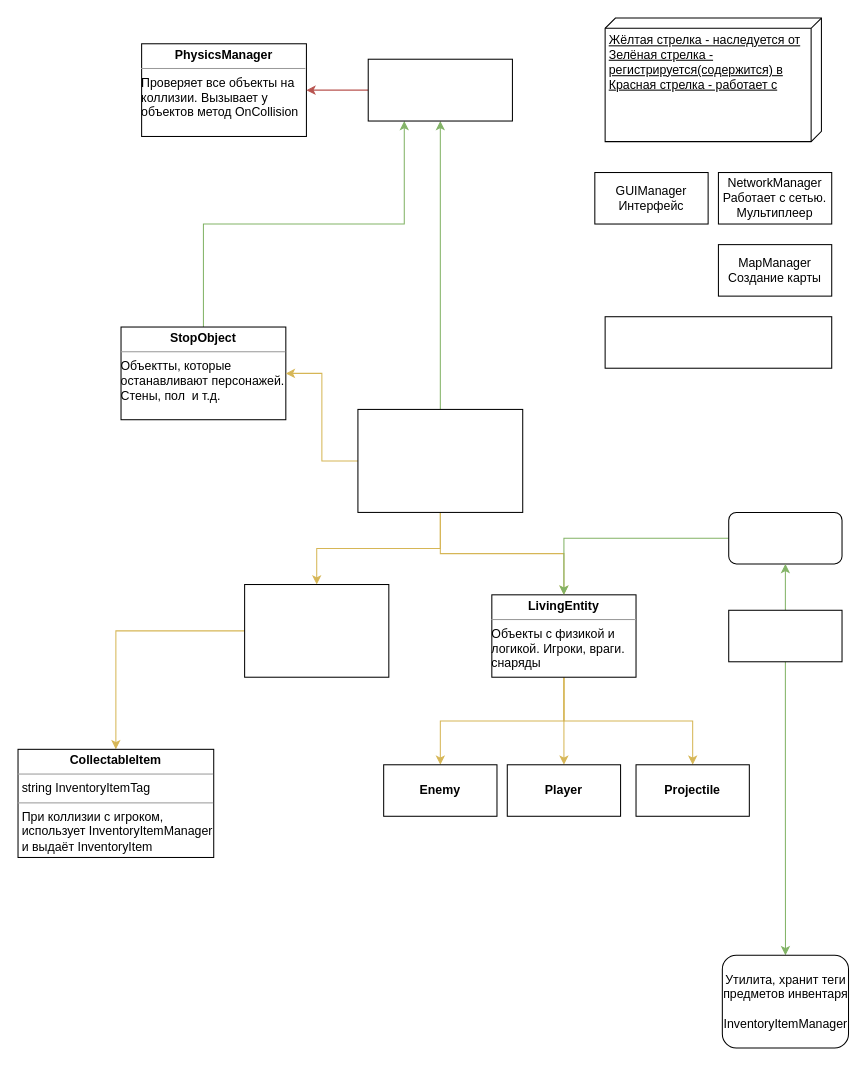
Image size: 867x1066. Some labels were removed from this diagram. Each missing label, with the centre of its shape:
Entity Объект, у которого есть физика, но нет логики. Выпадающие предметы, шипы: the point at 316,630
GameManager Регистрирует все объекты в менеджерах: the point at 439,89
IGameObject Любой игровой объект Методы: void OnCollision() void Animate(): the point at 440,460
inventory: the point at 785,537
InventoryItem: the point at 785,635
TextureManager Утилита. Подгружает и содержит текстуры объектов: the point at 718,342
